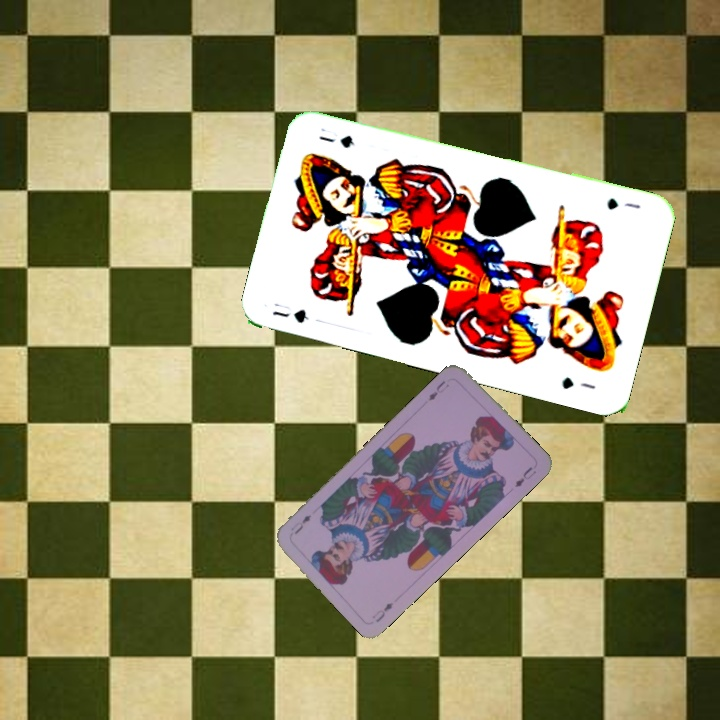EU: (424, 376, 452, 404), (368, 598, 396, 625)
GU: (268, 305, 311, 326), (603, 193, 643, 213)
